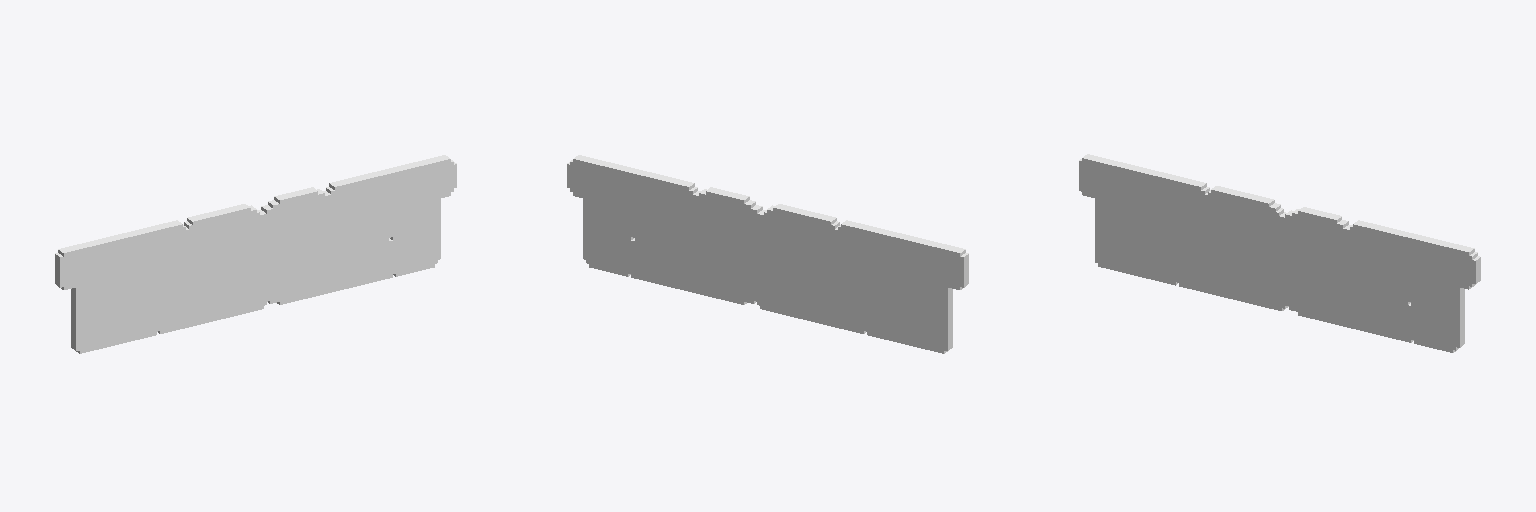
Rendered from TARGET.obj.
3 renders of one model, left to right at view 1: azimuth 30°, elevation 25°; view 2: azimuth 150°, elevation 25°; view 3: azimuth 330°, elevation 25°, orthographic.
Size of the model in its own units: 123 by 31 by 3.